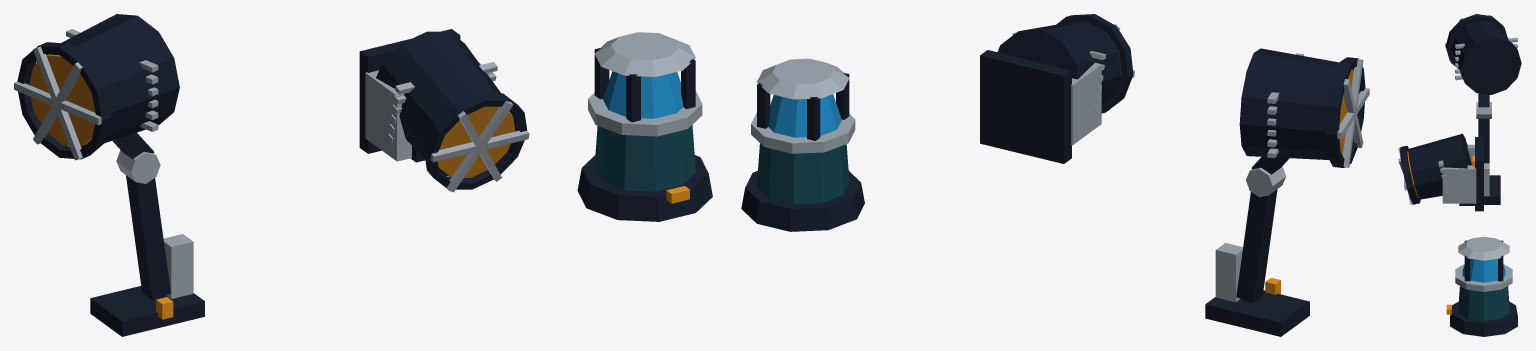
3 views of the same model, side by side, from view 1: azimuth 30°, elevation 25°; view 2: azimuth 150°, elevation 25°; view 3: azimuth 270°, elevation 25° (orthographic). The views are drawn at different scales.
Visible parts, largest first — view 1: DL020_LightingKit_graphite_navy, DL020_LightingKit_titanium, DL020_LightingKit_teal_shell, DL020_LightingKit_emissive_amber, DL020_LightingKit_emissive_cyan, DL020_LightingKit_amber_accent; view 2: DL020_LightingKit_graphite_navy, DL020_LightingKit_titanium, DL020_LightingKit_teal_shell, DL020_LightingKit_emissive_cyan; view 3: DL020_LightingKit_graphite_navy, DL020_LightingKit_titanium, DL020_LightingKit_teal_shell, DL020_LightingKit_emissive_cyan.
Boxes of the visible parts, box(x1,y1,x2,y2) form: DL020_LightingKit_graphite_navy: box(17, 14, 712, 336); DL020_LightingKit_titanium: box(14, 29, 702, 298); DL020_LightingKit_teal_shell: box(594, 125, 695, 191); DL020_LightingKit_emissive_amber: box(29, 54, 515, 177); DL020_LightingKit_emissive_cyan: box(603, 71, 683, 118); DL020_LightingKit_amber_accent: box(156, 186, 689, 319); DL020_LightingKit_graphite_navy: box(741, 14, 1365, 336); DL020_LightingKit_titanium: box(751, 14, 1369, 302); DL020_LightingKit_teal_shell: box(756, 143, 849, 204); DL020_LightingKit_emissive_cyan: box(768, 94, 841, 137); DL020_LightingKit_graphite_navy: box(1400, 14, 1521, 336); DL020_LightingKit_titanium: box(1398, 15, 1517, 291); DL020_LightingKit_teal_shell: box(1458, 286, 1509, 320); DL020_LightingKit_emissive_cyan: box(1462, 259, 1505, 282).
Bounding box in the file's own units: 3.63 × 1.54 × 1.1.
